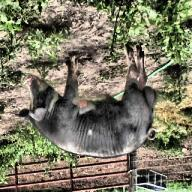boar: (16, 43, 164, 160)
